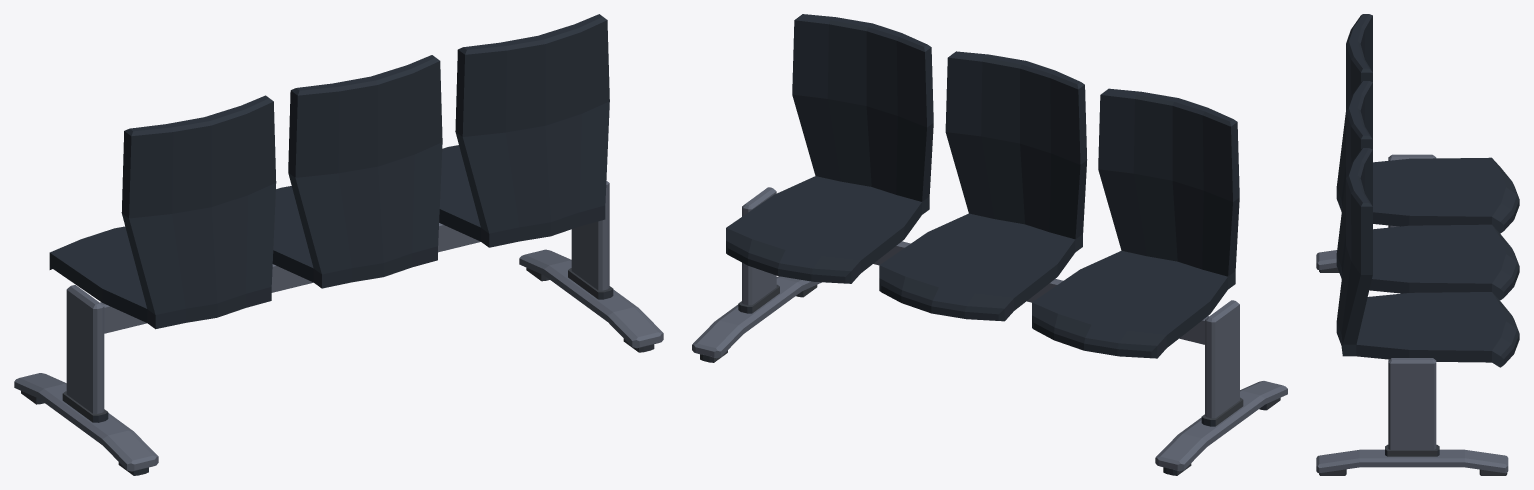
Rendered from g_o_WaitingRoom.fbx.
3 views of the same model, side by side, from view 1: azimuth 30°, elevation 25°; view 2: azimuth 150°, elevation 25°; view 3: azimuth 270°, elevation 25° (orthographic). The views are drawn at different scales.
Parts seen in each view (by area): view 1: TriageStation; view 2: TriageStation; view 3: TriageStation.
Boxes of the visible parts, x1=… form: TriageStation: x1=14, y1=14, x2=663, y2=475; TriageStation: x1=692, y1=14, x2=1287, y2=475; TriageStation: x1=1316, y1=14, x2=1519, y2=475.
Bounding box in the file's own units: 177 × 101 × 70.45.
